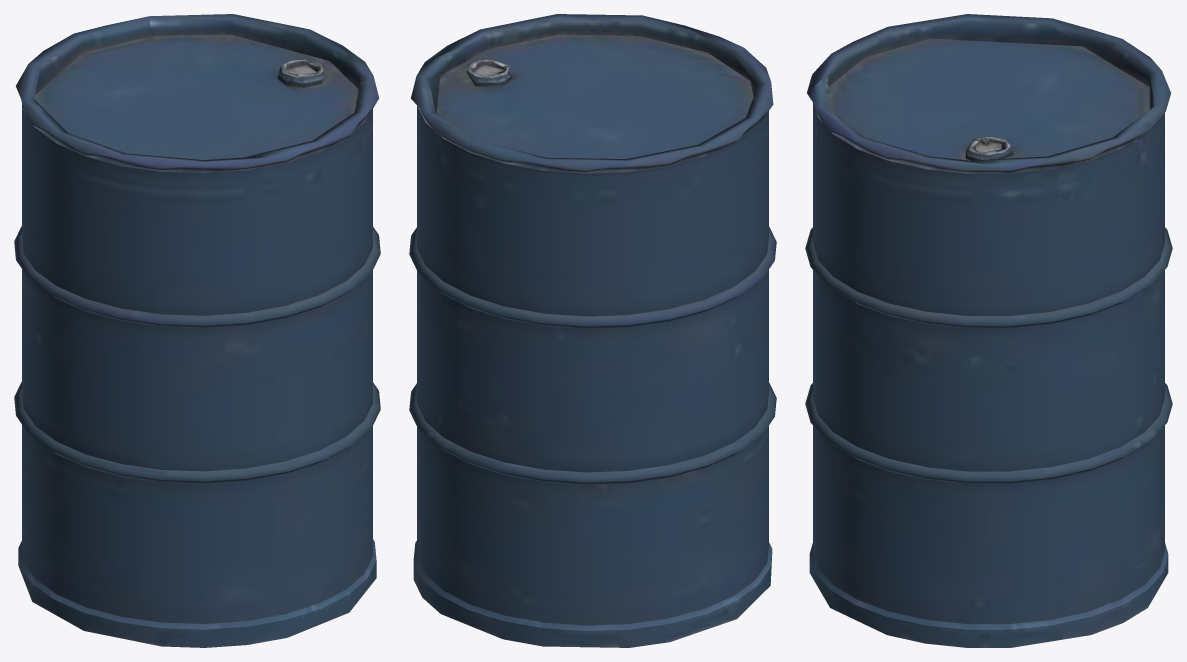
Rendered from barrel_blue.glb.
3 renders of one model, left to right at view 1: azimuth 30°, elevation 25°; view 2: azimuth 150°, elevation 25°; view 3: azimuth 270°, elevation 25°, orthographic.
Visible parts, largest first — view 1: barrel_03; view 2: barrel_03; view 3: barrel_03.
Part boxes in pixels (x1,y1,x2,y2): barrel_03: [14, 14, 380, 647]; barrel_03: [409, 14, 776, 647]; barrel_03: [805, 14, 1172, 647].
Bounding box in the file's own units: 0.6339 × 0.9305 × 0.6386.
Materials: 1 (1 with a texture image).
